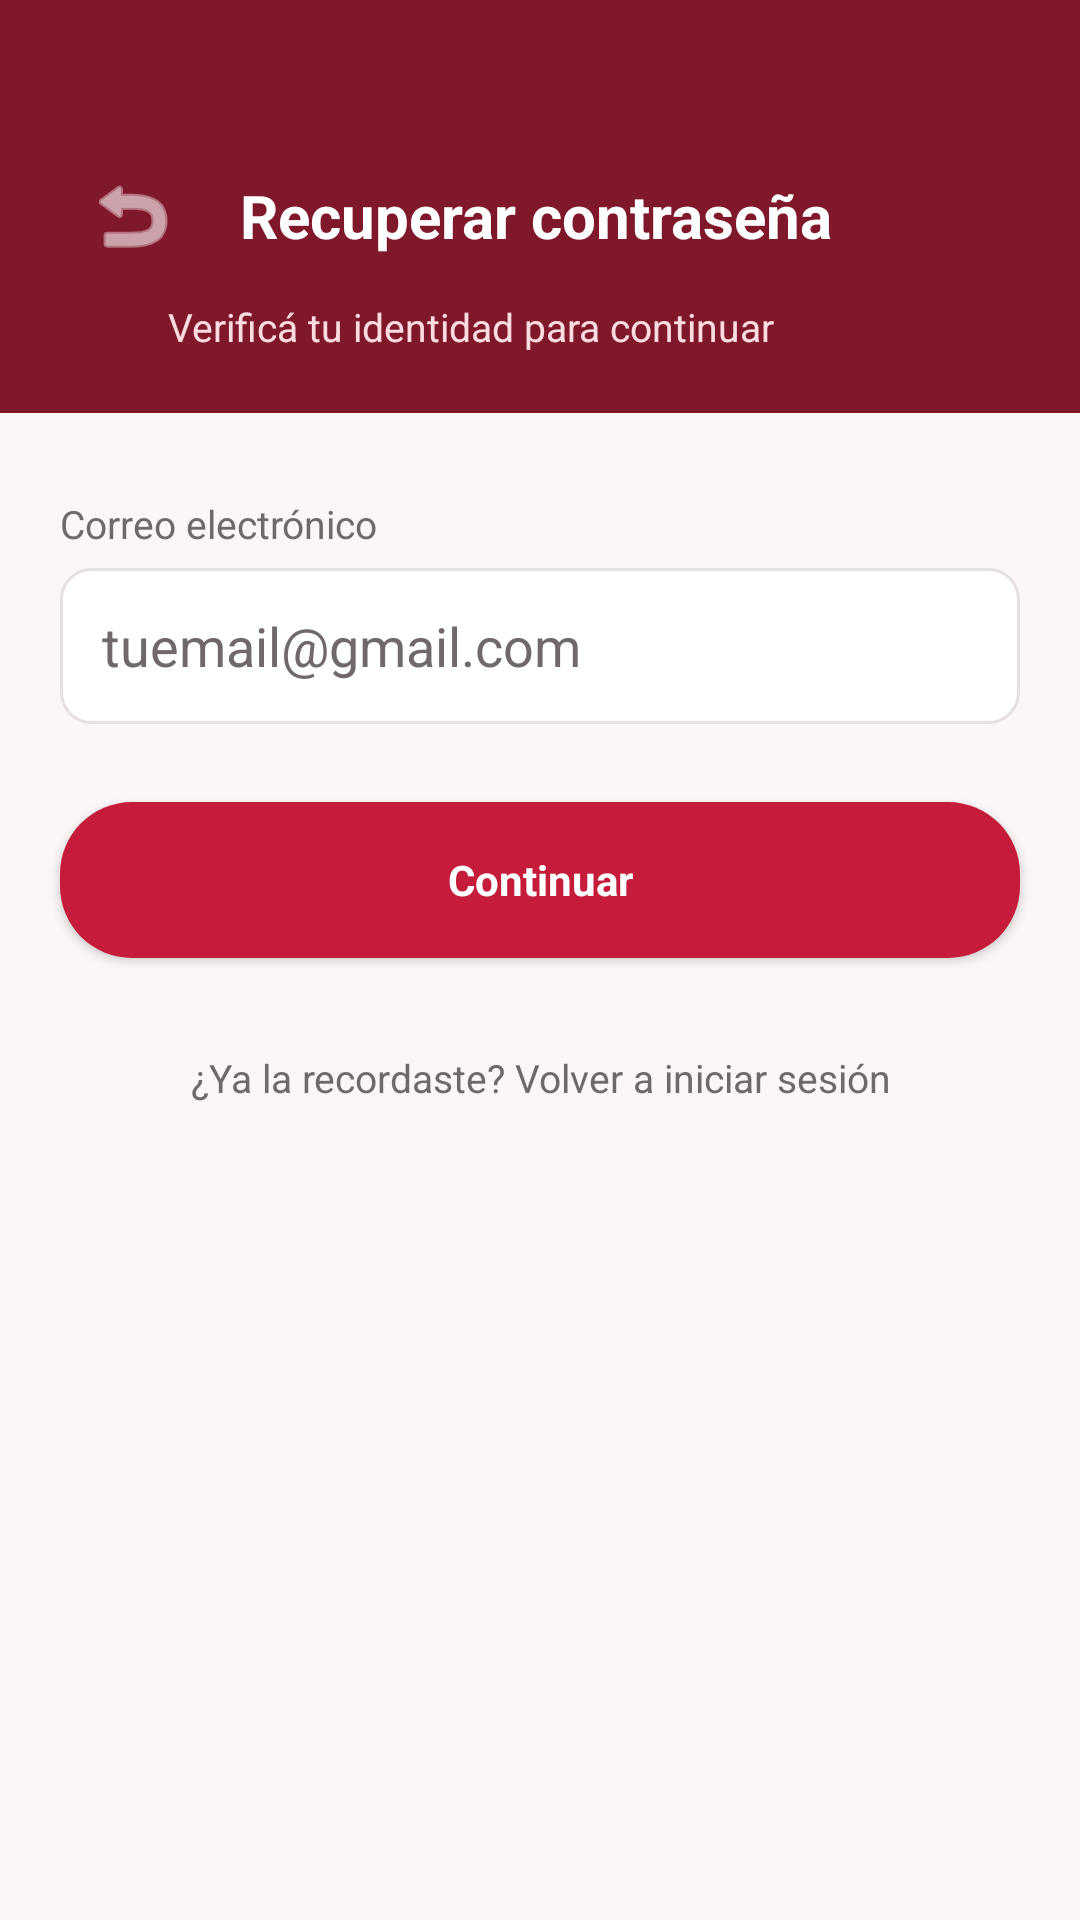

Named icons in this screenshot (1080px×1920px) and their centers, (x=x, y=y):
Volver: (x=133, y=216)
